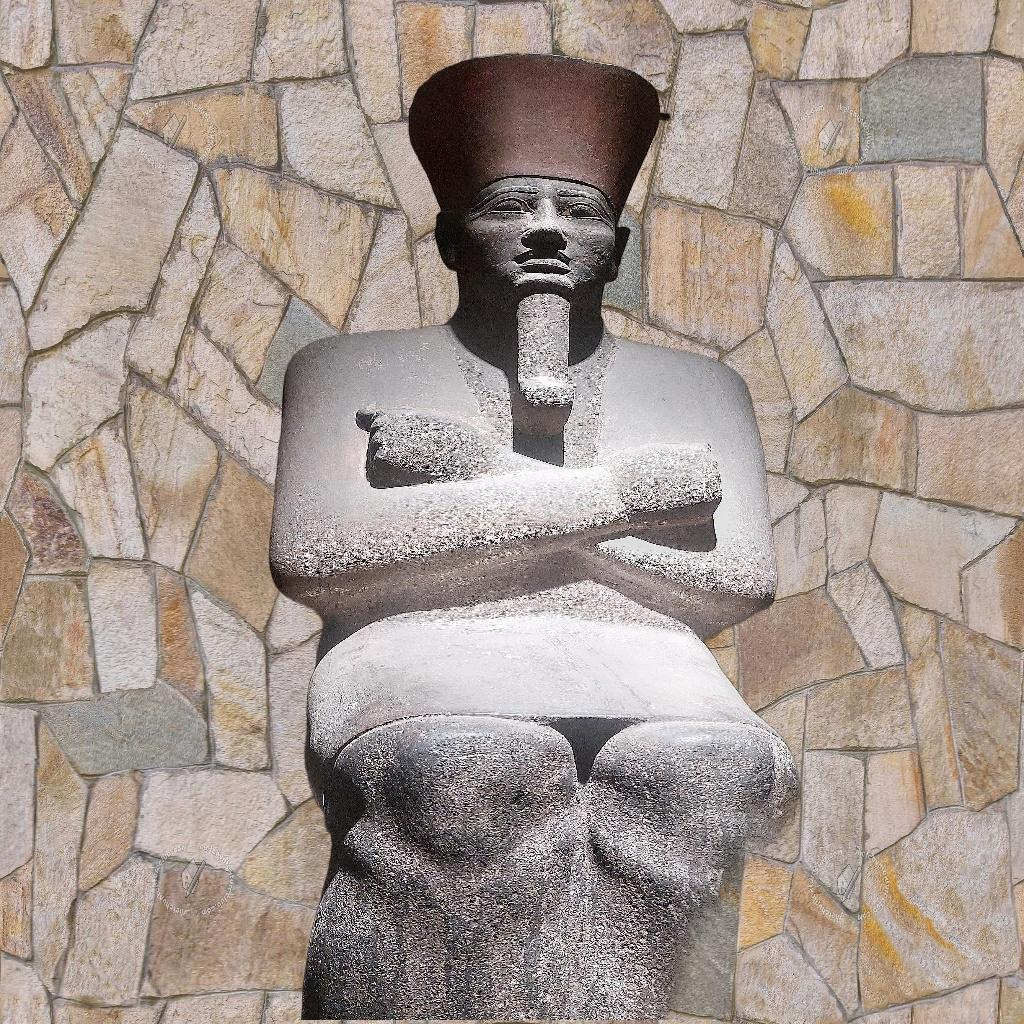Mentuhotep Nebhetpre: (258, 48, 836, 1020)
